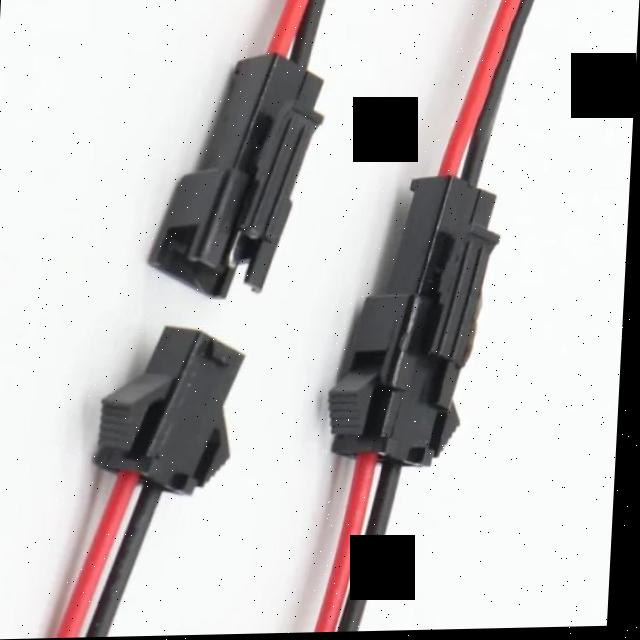connector: (332, 0, 534, 633), (152, 56, 324, 298), (100, 328, 247, 494)
